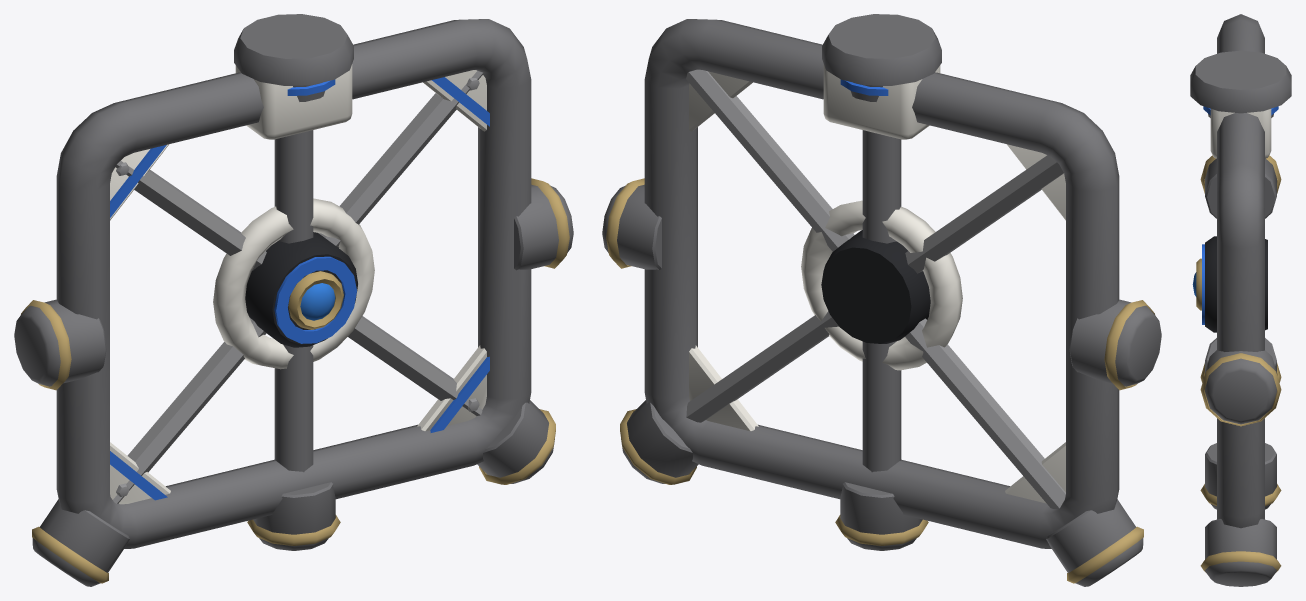
The model's file is Kit_Limb_Frame_L.glb.
3 renders of one model, left to right at view 1: azimuth 30°, elevation 25°; view 2: azimuth 150°, elevation 25°; view 3: azimuth 270°, elevation 25°, orthographic. The views are drawn at different scales.
Parts seen in each view (by area): view 1: Kit_Limb_Frame_L; view 2: Kit_Limb_Frame_L; view 3: Kit_Limb_Frame_L.
Boxes of the visible parts, bbox=[...] form: Kit_Limb_Frame_L: bbox=[14, 14, 573, 586]; Kit_Limb_Frame_L: bbox=[602, 14, 1161, 586]; Kit_Limb_Frame_L: bbox=[1190, 14, 1291, 586].
Size of the model in its own units: 0.5853 by 0.5316 by 0.1125.
